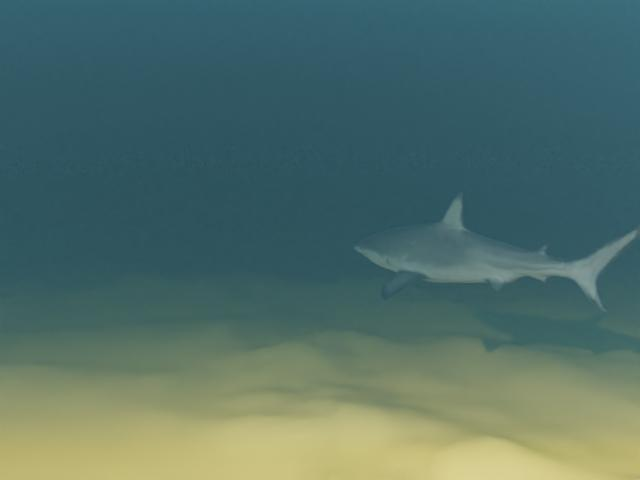Carribean Shark.001: (353, 192, 640, 312)
